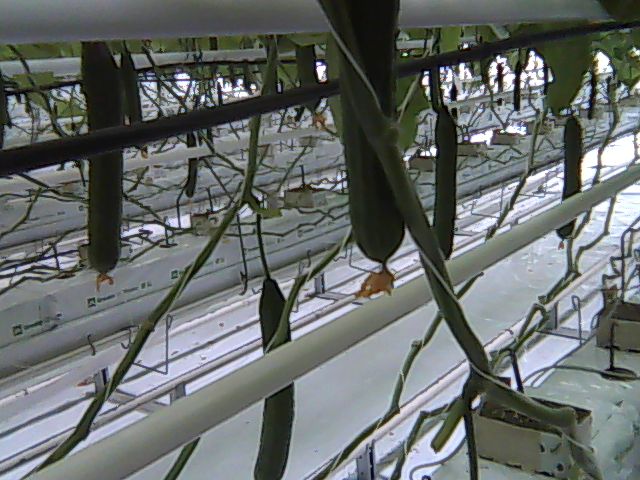concombre: (333, 1, 406, 303)
